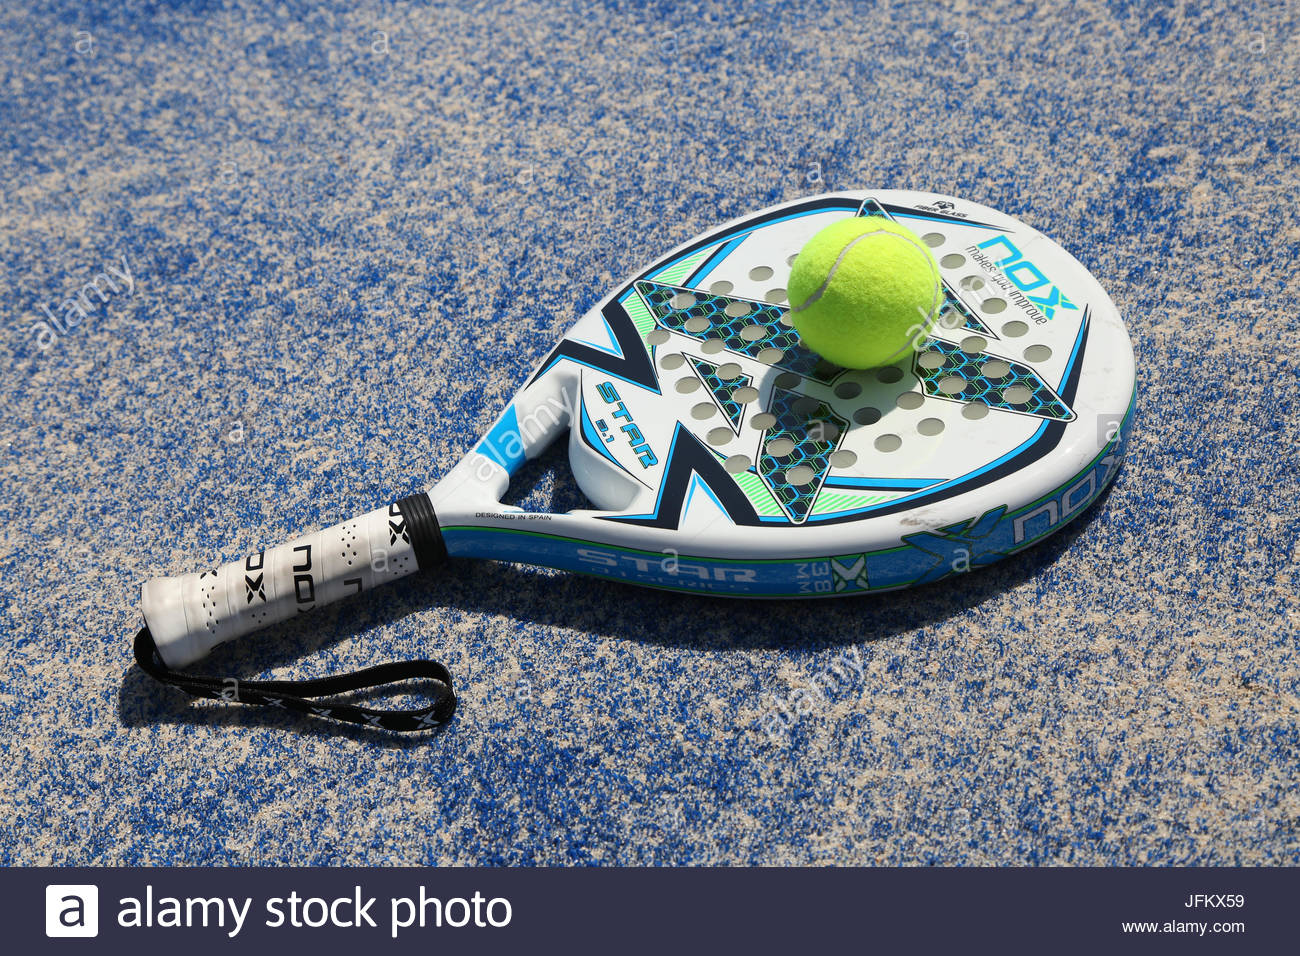tennis_ball: (786, 213, 941, 376)
